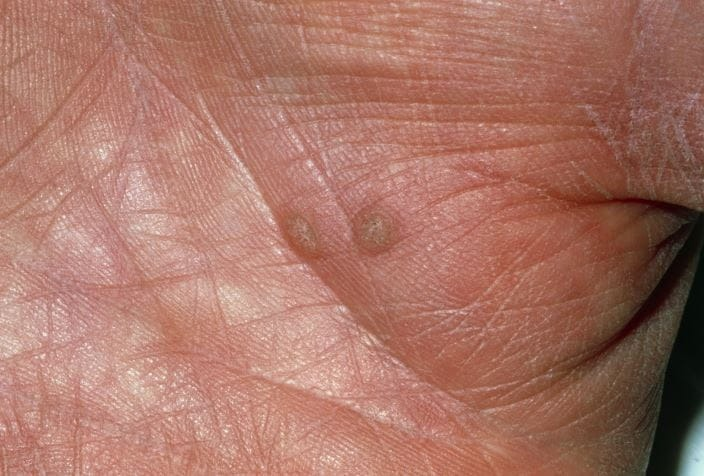Warts: (259, 179, 424, 283)
